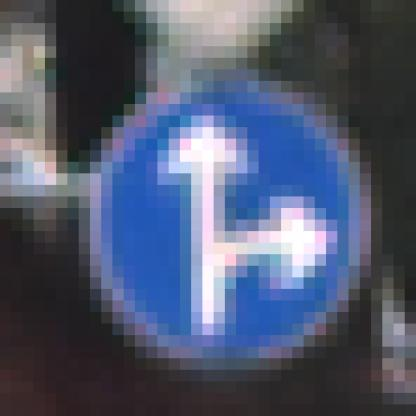Straight or Right: (68, 59, 361, 359)
